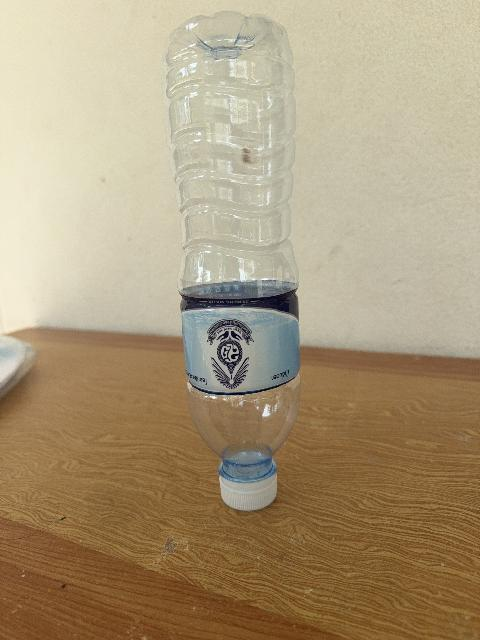bottle: (164, 12, 300, 510)
